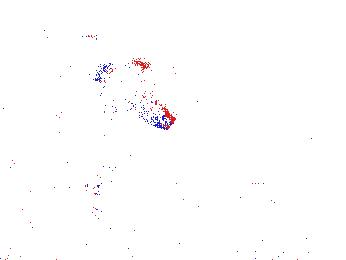flame jellyfish: (86, 55, 175, 131), (81, 135, 136, 198), (249, 163, 319, 206)
